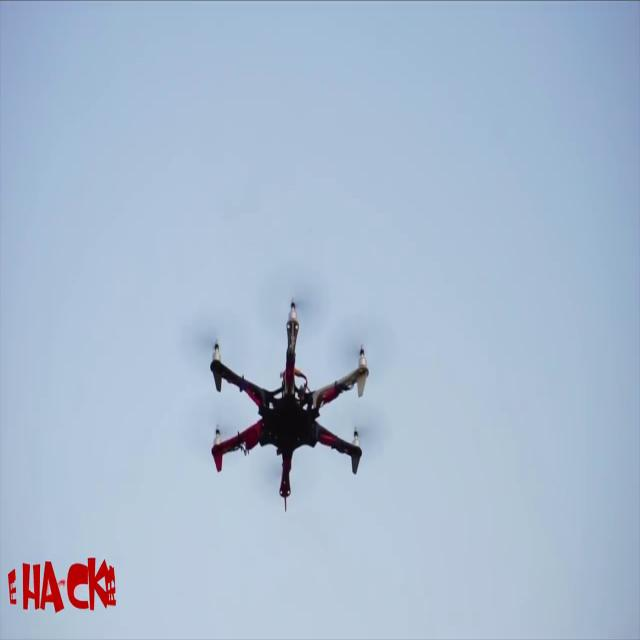drone: (162, 300, 388, 512)
